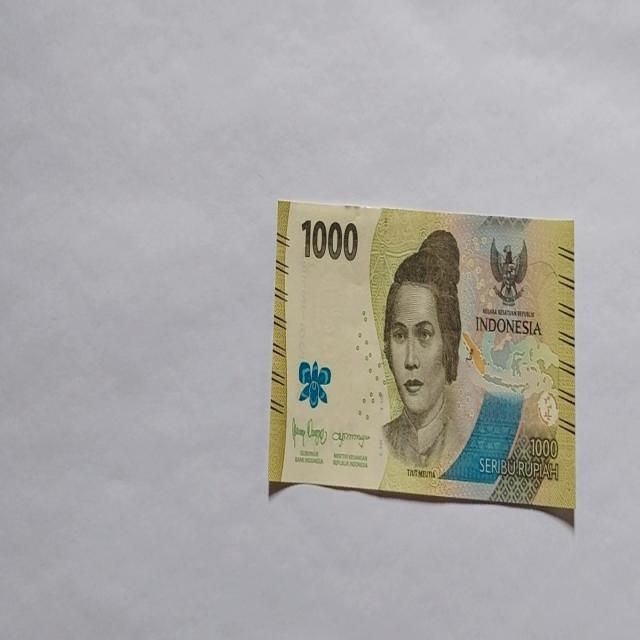seribu rupiah kertas: (267, 197, 575, 512)
